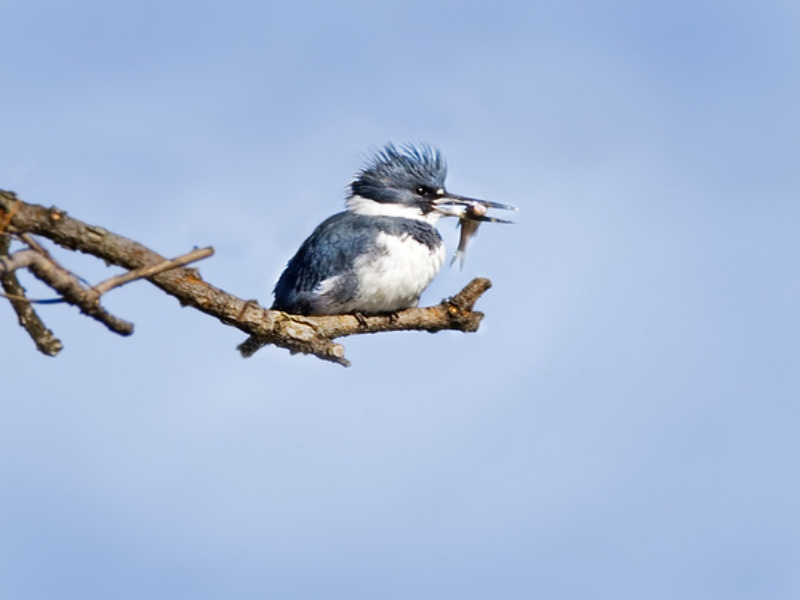kingfisher: (234, 127, 515, 367)
